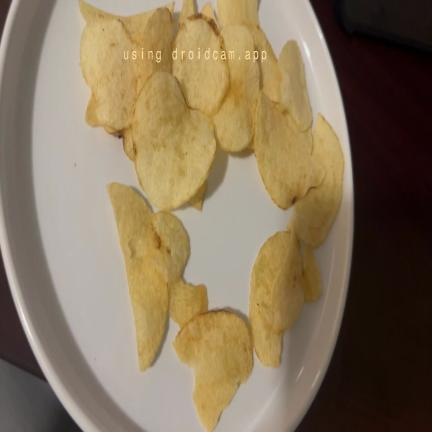chips: (107, 183, 190, 371), (80, 2, 173, 134), (133, 72, 216, 209), (174, 311, 252, 431), (107, 183, 190, 281), (254, 92, 323, 209), (250, 231, 303, 367), (290, 115, 344, 247), (80, 20, 137, 130), (213, 25, 259, 151), (173, 14, 229, 116), (249, 232, 290, 367), (126, 258, 168, 371), (260, 231, 303, 332), (128, 212, 190, 281), (107, 183, 152, 257), (136, 8, 174, 92), (279, 41, 312, 131), (149, 212, 190, 281), (79, 0, 155, 37), (248, 25, 281, 101), (250, 293, 283, 367), (169, 280, 207, 328), (217, 0, 258, 27), (303, 247, 322, 302), (190, 181, 207, 211), (202, 2, 218, 26), (123, 128, 134, 161), (180, 0, 195, 23)
plate: (0, 0, 202, 431)
